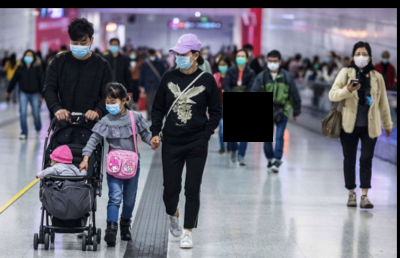with_mask: (68, 39, 90, 59), (173, 53, 192, 71), (103, 99, 121, 116), (353, 51, 370, 68), (265, 58, 280, 72), (233, 54, 247, 66), (217, 62, 228, 74), (22, 53, 33, 63), (108, 42, 118, 53), (128, 51, 136, 60), (148, 53, 156, 61), (382, 57, 389, 64)
